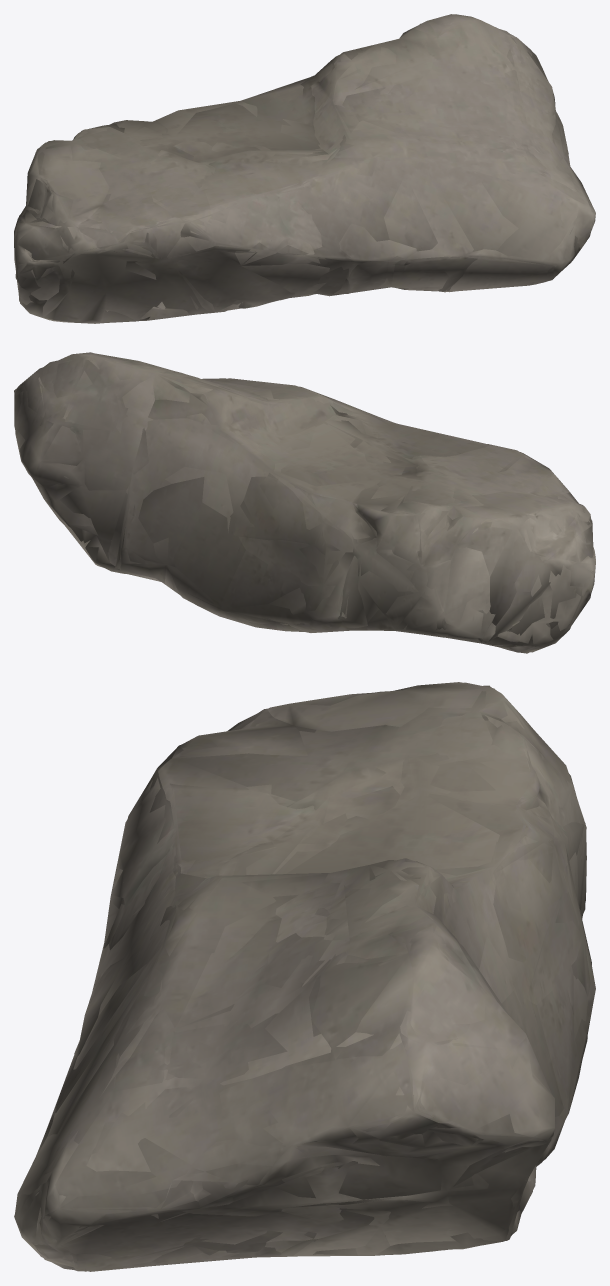
The model's file is moon_rock_01.glb.
The picture shows the model from 3 angles, top to bottom: view 1: azimuth 30°, elevation 25°; view 2: azimuth 150°, elevation 25°; view 3: azimuth 270°, elevation 25°; orthographic projection. The views are drawn at different scales.
Parts seen in each view (by area): view 1: moon_rock_01_LOD0; view 2: moon_rock_01_LOD0; view 3: moon_rock_01_LOD0.
Boxes of the visible parts, x1,y1,x2,y2 form: moon_rock_01_LOD0: [14, 14, 595, 323]; moon_rock_01_LOD0: [14, 352, 595, 653]; moon_rock_01_LOD0: [14, 682, 595, 1271].
Size of the model in its own units: 0.2123 by 0.0753 by 0.1117.
Materials: 1 (1 with a texture image).
